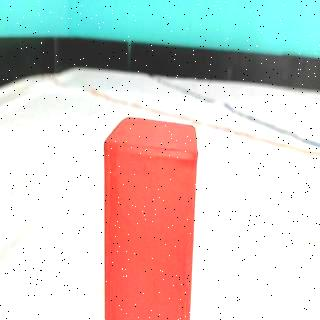redbox: (102, 117, 196, 320)
